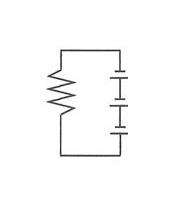resistor: (39, 57, 78, 121)
